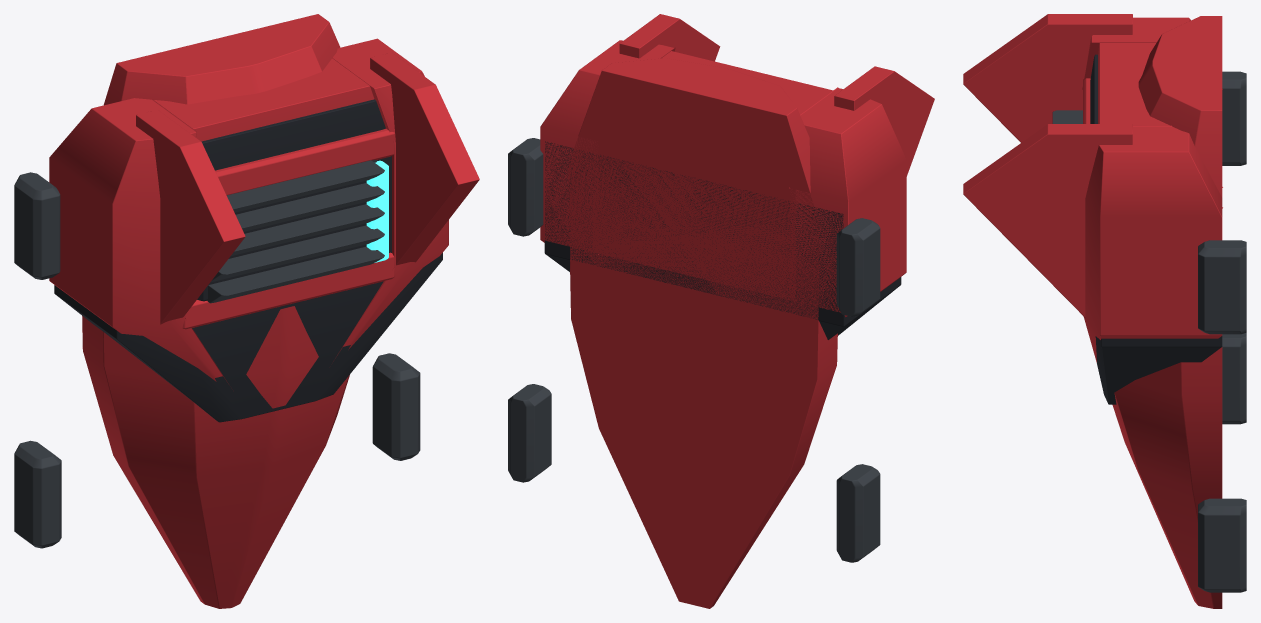
The model's file is ThighBack_Set03_Overclock.fbx.
The picture shows the model from 3 angles, left to right: view 1: azimuth 30°, elevation 25°; view 2: azimuth 150°, elevation 25°; view 3: azimuth 270°, elevation 25°; orthographic projection. The views are drawn at different scales.
Visible parts, largest first — view 1: ThighBack_Set03_Overclock; view 2: ThighBack_Set03_Overclock; view 3: ThighBack_Set03_Overclock.
Boxes of the visible parts, left/top/right/bottom form: ThighBack_Set03_Overclock: left=14, top=14, right=479, bottom=608; ThighBack_Set03_Overclock: left=508, top=14, right=934, bottom=608; ThighBack_Set03_Overclock: left=963, top=14, right=1246, bottom=608.
Size of the model in its own units: 0.53 by 0.73 by 0.3487.
